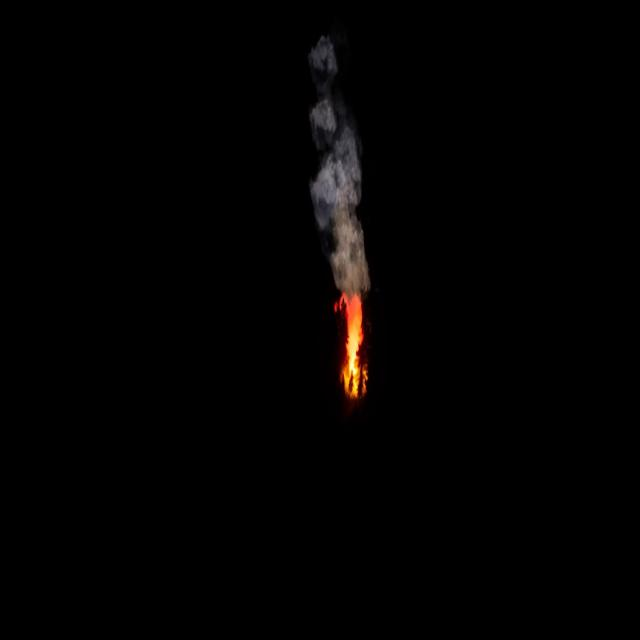fire: (335, 291, 369, 400)
smoke: (310, 27, 373, 297)
